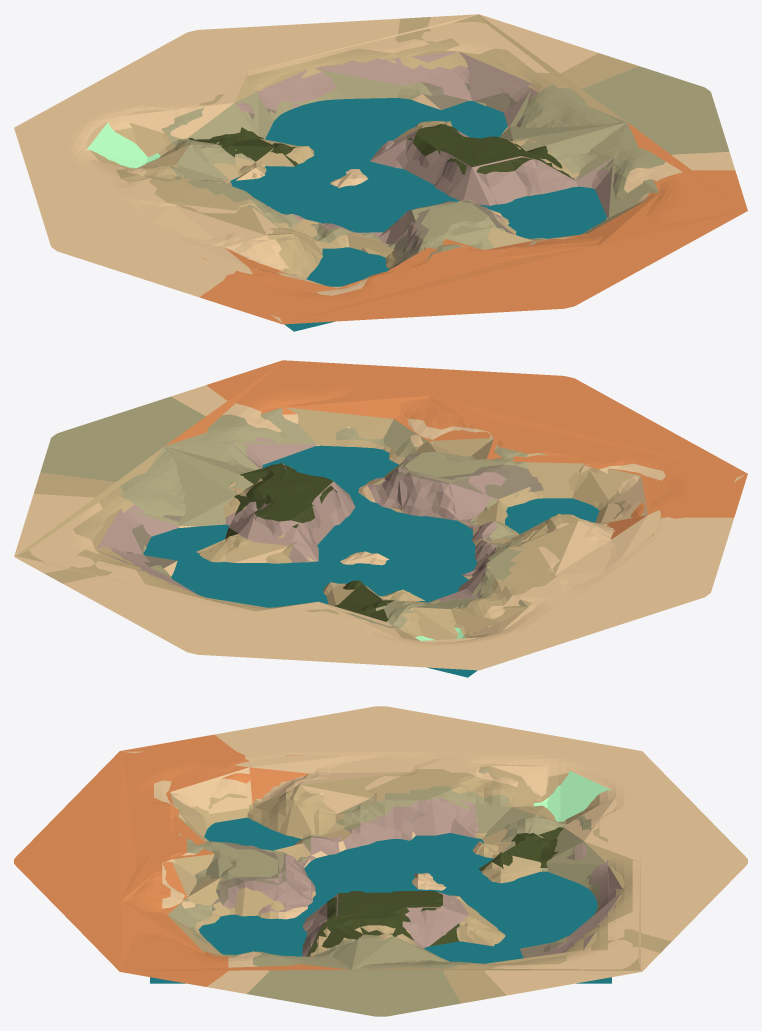
File: Landscapes 1.fbx
3 renders of one model, top to bottom at view 1: azimuth 30°, elevation 25°; view 2: azimuth 150°, elevation 25°; view 3: azimuth 270°, elevation 25°, orthographic. The views are drawn at different scales.
Parts seen in each view (by area): view 1: MainLand, MainLandCol, WaterPlane; view 2: MainLand, MainLandCol, WaterPlane; view 3: MainLand, MainLandCol, WaterPlane.
Part boxes in pixels (left/top/right/bottom): MainLand: left=14, top=14, right=747, bottom=324; MainLandCol: left=86, top=14, right=744, bottom=323; WaterPlane: left=230, top=98, right=607, bottom=331; MainLand: left=14, top=360, right=747, bottom=670; MainLandCol: left=16, top=361, right=745, bottom=642; WaterPlane: left=143, top=445, right=599, bottom=677; MainLand: left=14, top=706, right=747, bottom=1016; MainLandCol: left=121, top=751, right=640, bottom=971; WaterPlane: left=150, top=817, right=611, bottom=983.
Bounding box in the file's own units: 2118358 × 206214 × 2118357.
